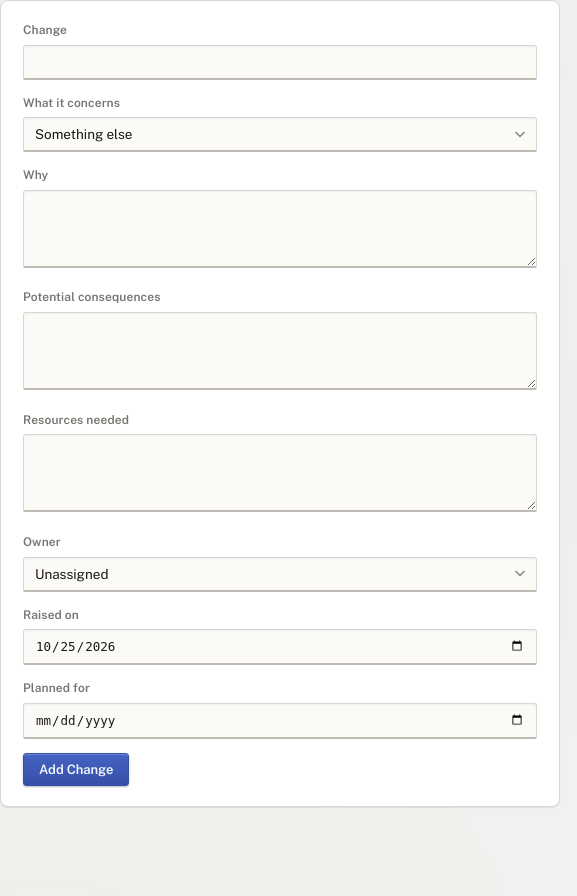
Scenario: ChangeForm › asks for a title and a planned date
The image size is (577, 896).
Click the button "Add Change" at (76, 769), box [23,753,129,786]
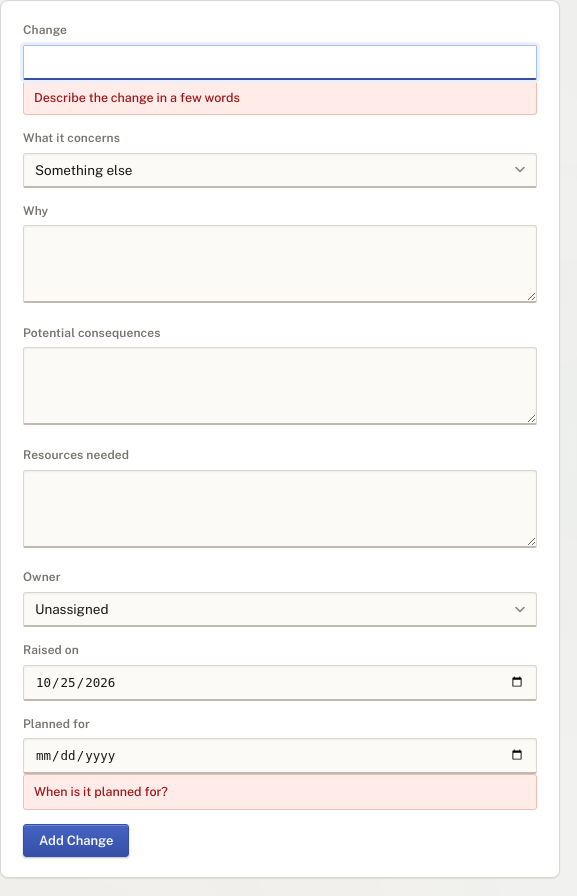
Check: the text "Describe the change in a few words" is shown, box [23,80,537,115]
Check: the text "When is it planned for?" is shown, box [23,774,537,810]
